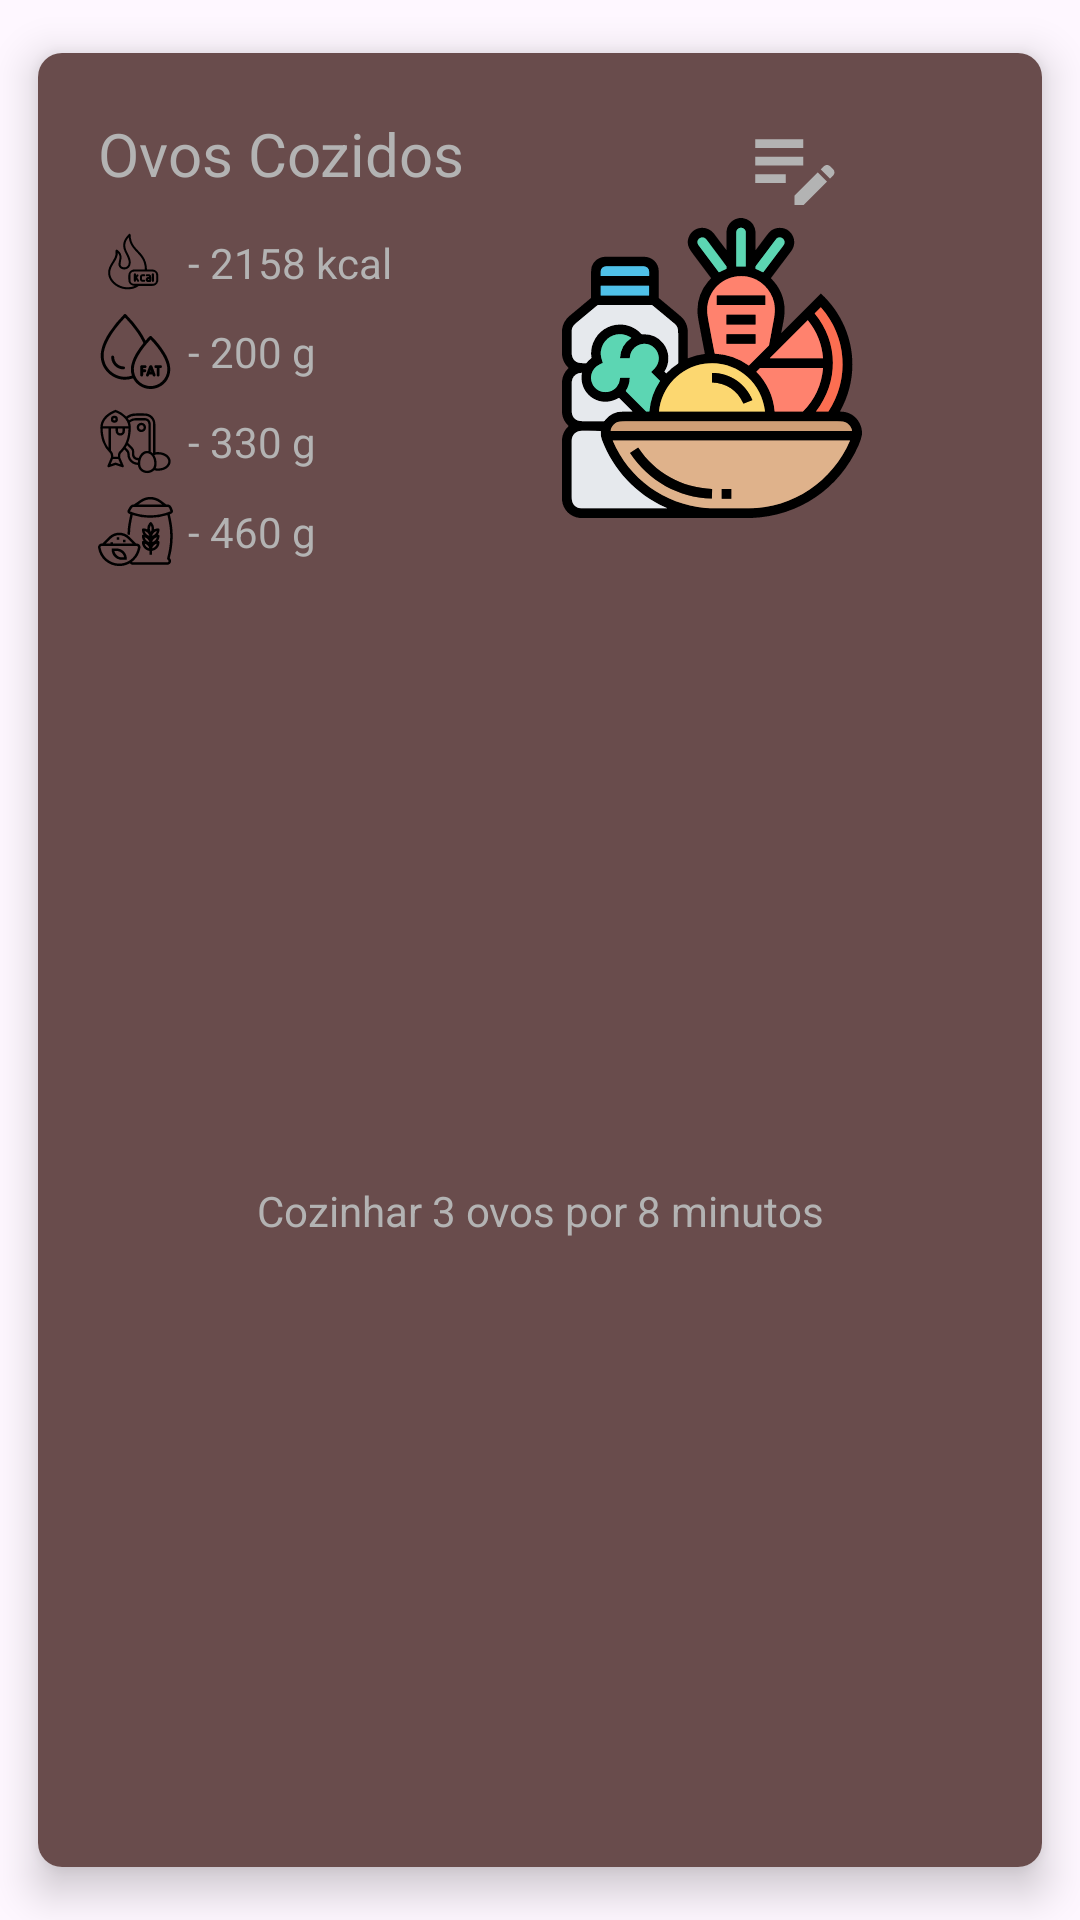

Locate icon controls on the screen. Image size 1080px x 1920px, boxes as (x1, y1, x2, y2).
carb: (98, 497, 173, 566)
edit note: (755, 139, 835, 205)
food: (562, 218, 862, 518)
protein: (100, 410, 171, 473)
